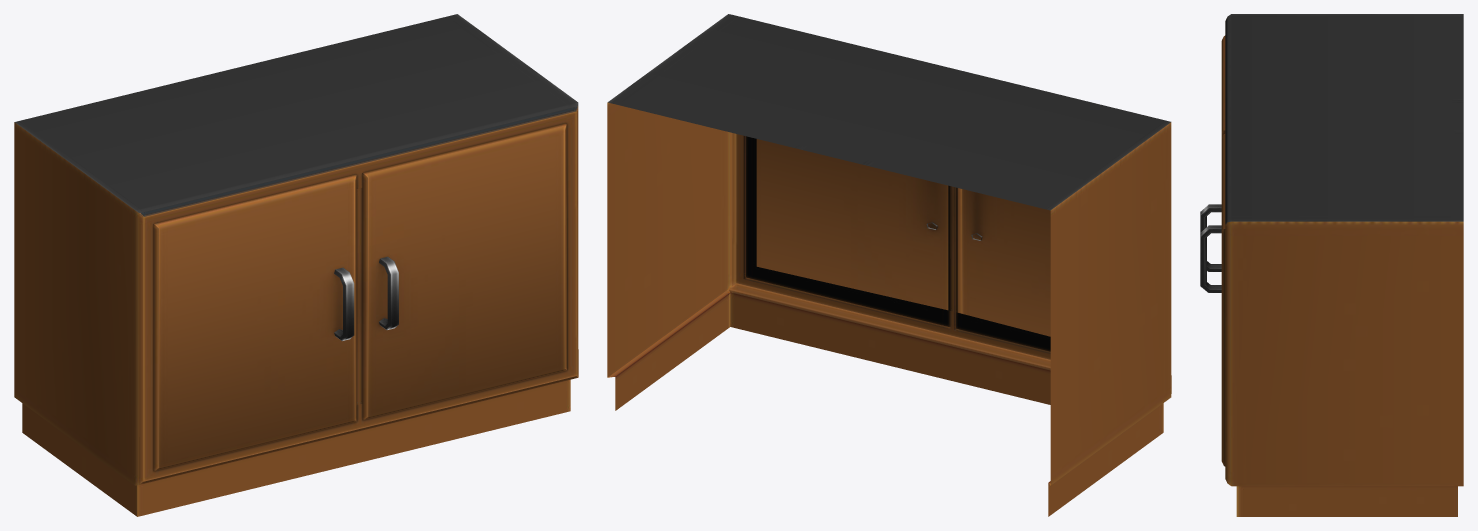
File: Unit.fbx
3 views of the same model, side by side, from view 1: azimuth 30°, elevation 25°; view 2: azimuth 150°, elevation 25°; view 3: azimuth 270°, elevation 25° (orthographic). The views are drawn at different scales.
Parts seen in each view (by area): view 1: Unit; view 2: Unit; view 3: Unit.
Part boxes in pixels (x1,y1,x2,y2): Unit: [14, 14, 578, 516]; Unit: [607, 14, 1171, 516]; Unit: [1200, 14, 1463, 516].
Size of the model in its own units: 160 by 85.62 by 107.
